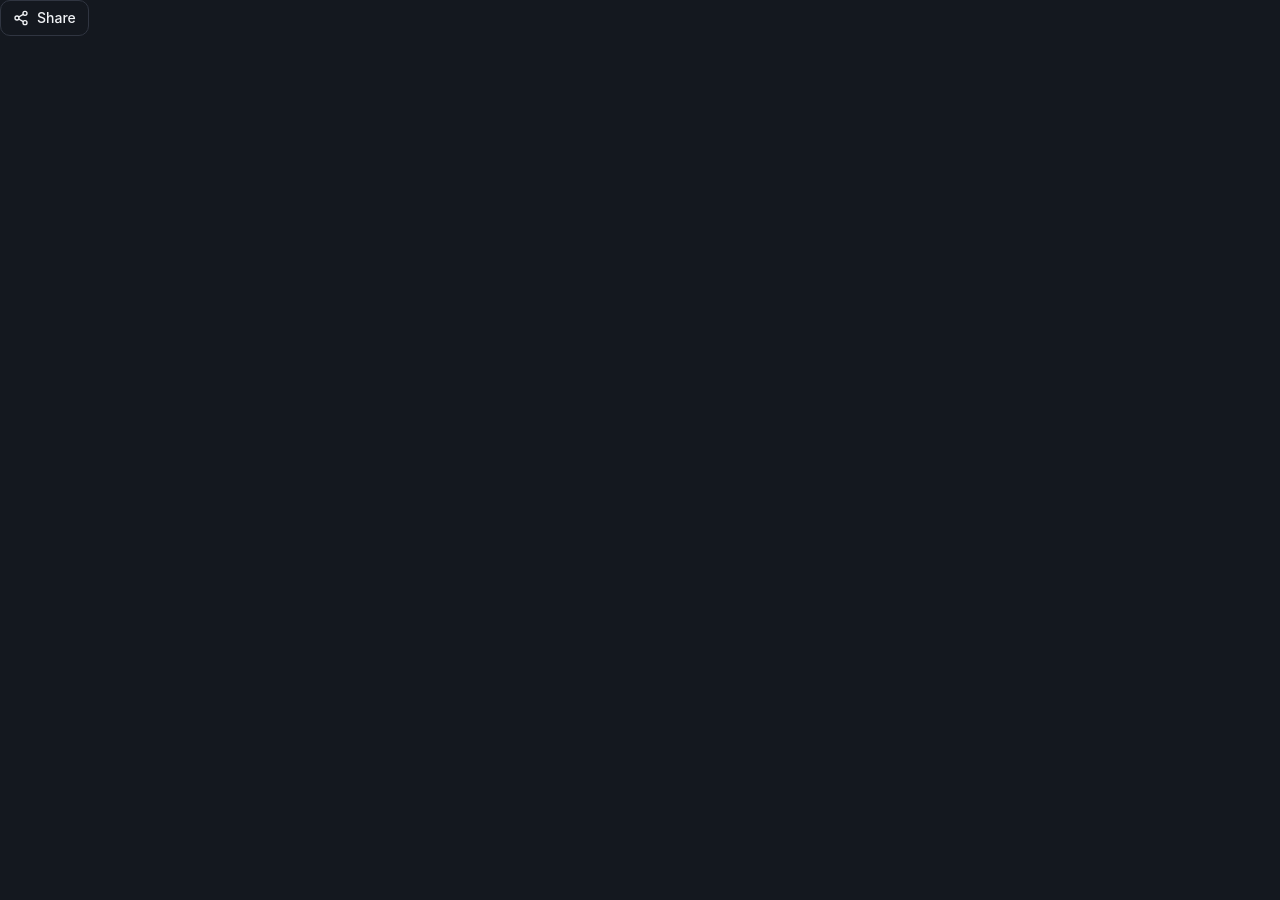
Test case: ShareButton › should show "Copied" text after copying
This screenshot has width=1280, height=900.
Click the button "Share".
click(44, 18)  # box x1=0 y1=0 x2=89 y2=36
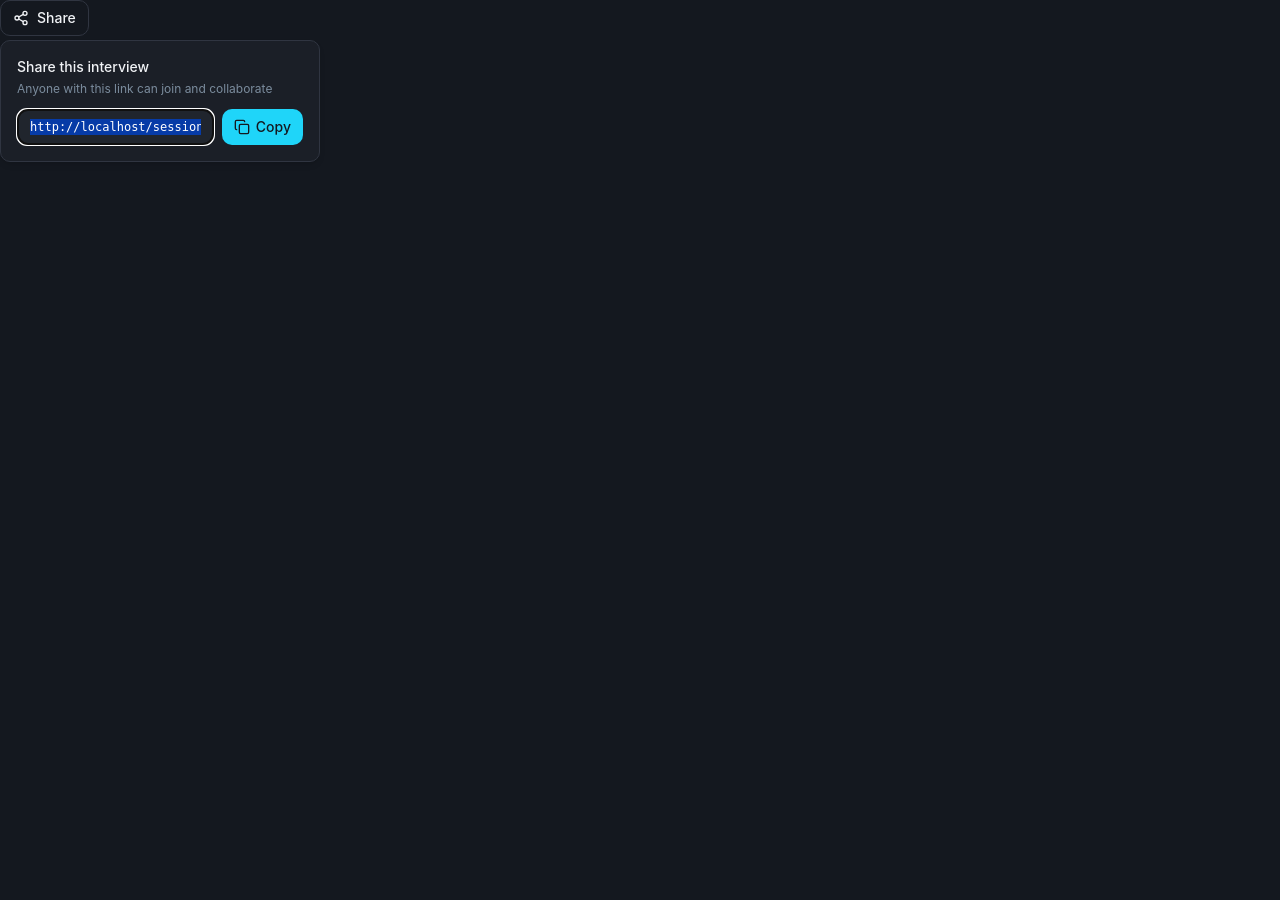
Now the heading "Share this interview" is shown, box x1=17 y1=58 x2=149 y2=75
Click the button "Copy".
click(262, 127)  # box x1=222 y1=109 x2=303 y2=145
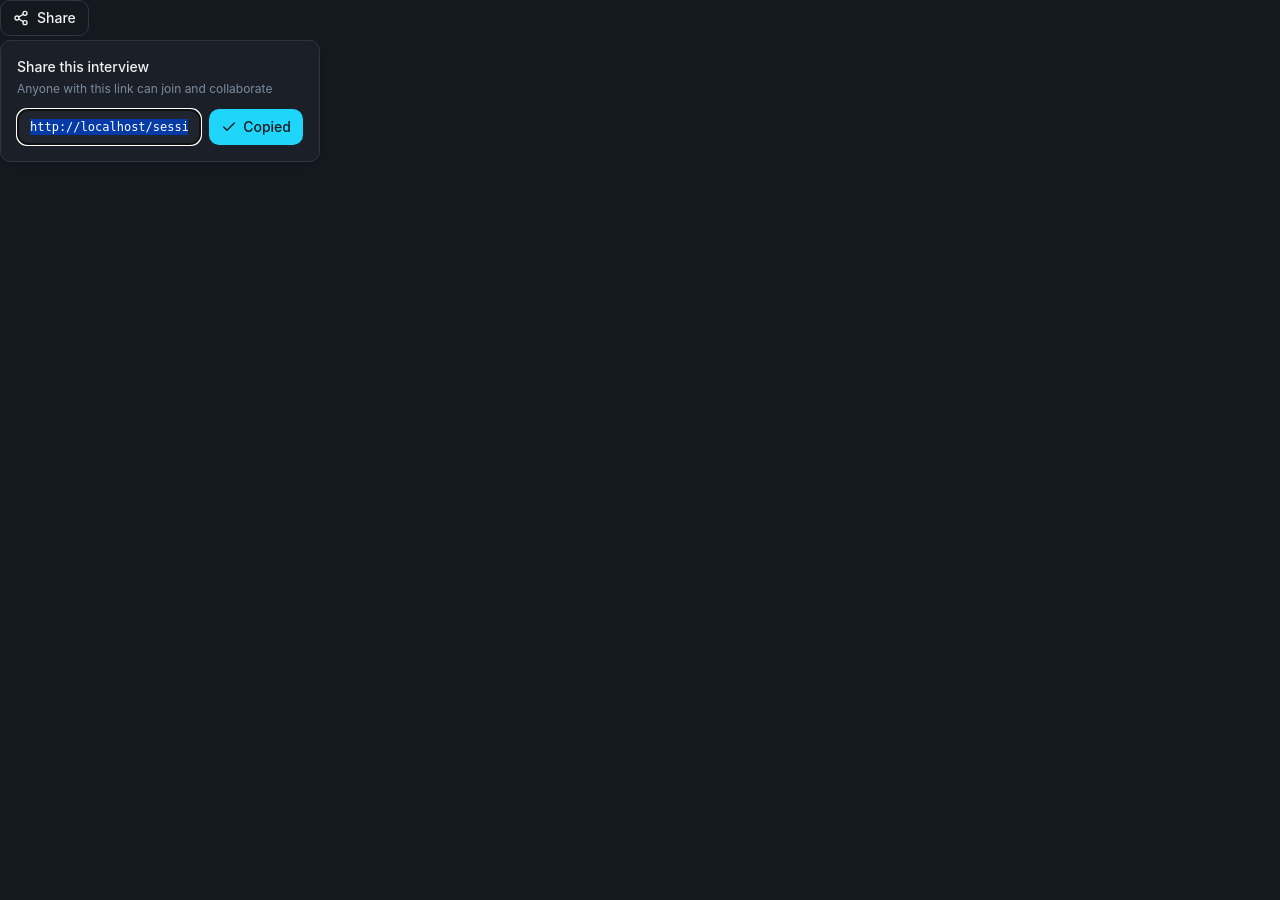
Now the button "Copied" is shown, box x1=209 y1=109 x2=303 y2=145
